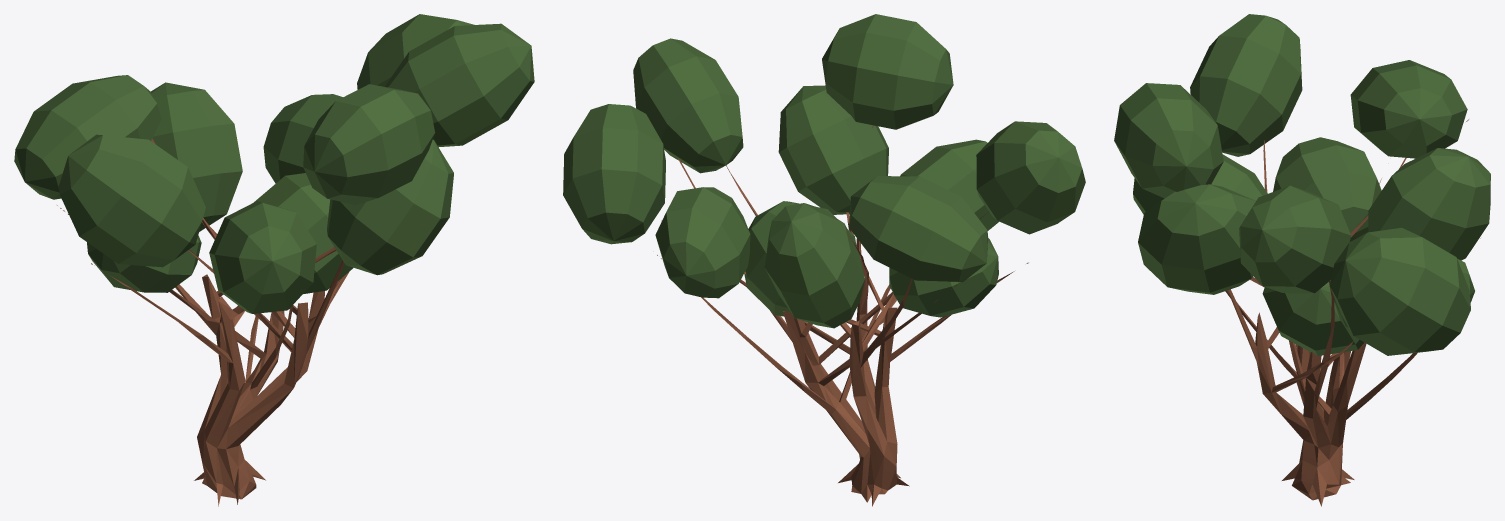
File: Arbousier_2_Niveau2.fbx
3 renders of one model, left to right at view 1: azimuth 30°, elevation 25°; view 2: azimuth 150°, elevation 25°; view 3: azimuth 270°, elevation 25°, orthographic. The views are drawn at different scales.
Parts seen in each view (by area): view 1: Arbousier_2_Niveau2_Jeu; view 2: Arbousier_2_Niveau2_Jeu; view 3: Arbousier_2_Niveau2_Jeu.
Part boxes in pixels (left/top/right/bottom): Arbousier_2_Niveau2_Jeu: left=14, top=14, right=534, bottom=506; Arbousier_2_Niveau2_Jeu: left=563, top=14, right=1085, bottom=506; Arbousier_2_Niveau2_Jeu: left=1114, top=14, right=1490, bottom=506.
Size of the model in its own units: 290 by 251 by 199.
